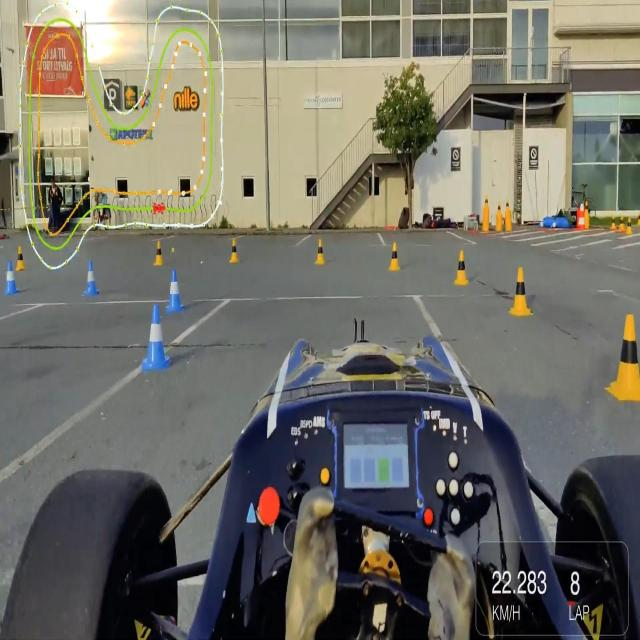blue_cone: (143, 303, 170, 372), (166, 266, 183, 314), (83, 261, 98, 299), (5, 261, 18, 299)
large_orange_cone: (576, 202, 586, 230)
yellow_cone: (604, 315, 640, 403), (508, 266, 531, 318), (453, 249, 469, 288), (388, 240, 402, 272), (152, 240, 166, 270), (315, 236, 327, 268), (229, 238, 241, 266), (16, 246, 25, 271), (618, 213, 625, 232), (610, 215, 616, 232), (626, 218, 632, 234), (484, 196, 490, 210), (636, 212, 640, 230), (583, 201, 589, 213), (497, 202, 503, 214), (506, 198, 510, 212)
